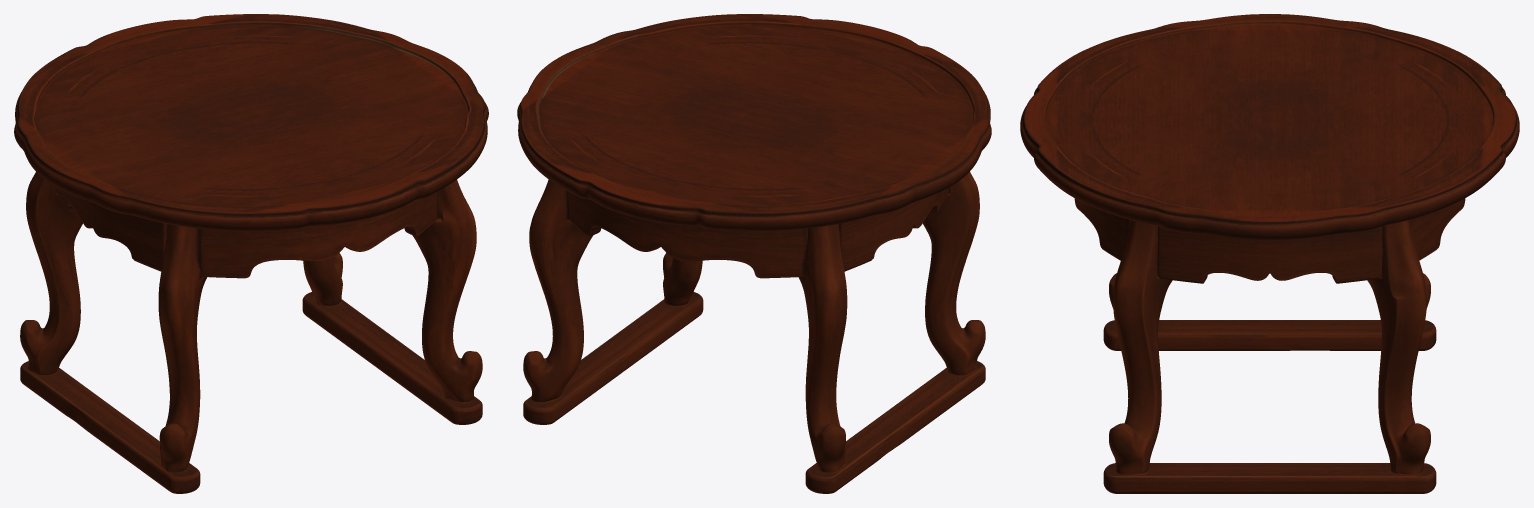
The model's file is wood_table.glb.
The picture shows the model from 3 angles, left to right: view 1: azimuth 30°, elevation 25°; view 2: azimuth 150°, elevation 25°; view 3: azimuth 270°, elevation 25°; orthographic projection. The views are drawn at different scales.
Bounding box in the file's own units: 1.9 × 1.25 × 1.9.
1 material, 1 textured.
